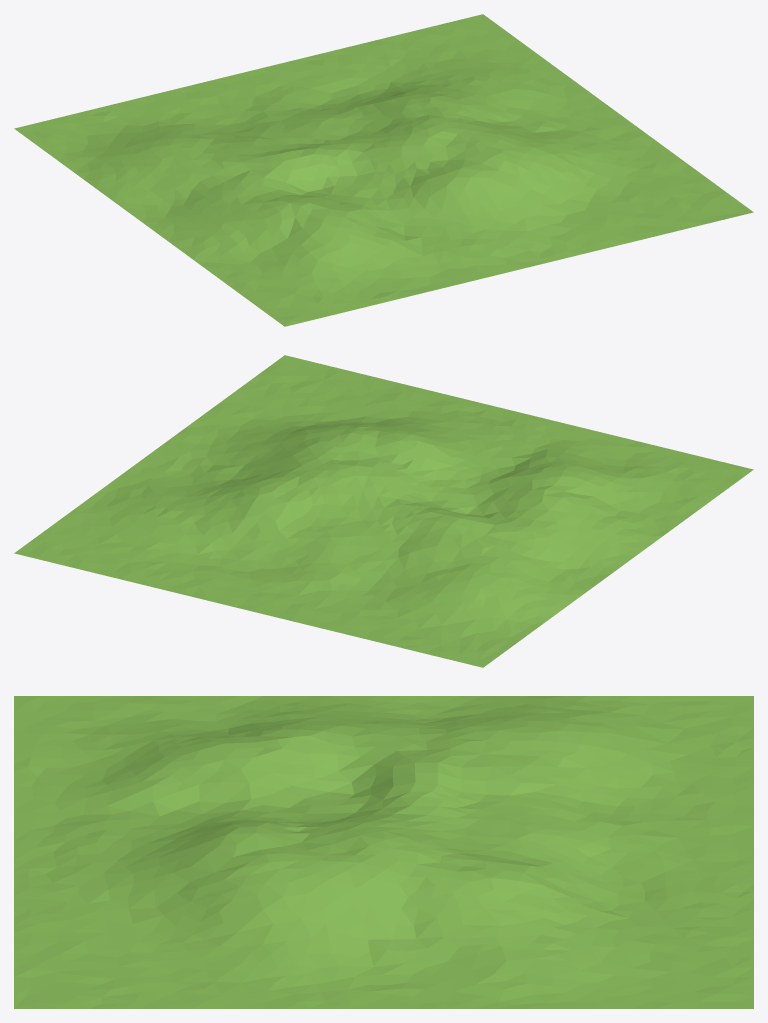
Rendered from MT_Terrain_L_a_23_LOD.fbx.
3 renders of one model, top to bottom at view 1: azimuth 30°, elevation 25°; view 2: azimuth 150°, elevation 25°; view 3: azimuth 270°, elevation 25°, orthographic. The views are drawn at different scales.
Visible parts, largest first — view 1: MT_Terrain_L_a_23_LOD0; view 2: MT_Terrain_L_a_23_LOD0; view 3: MT_Terrain_L_a_23_LOD0.
Part boxes in pixels (x1,y1,x2,y2): MT_Terrain_L_a_23_LOD0: [14, 14, 753, 326]; MT_Terrain_L_a_23_LOD0: [14, 355, 753, 667]; MT_Terrain_L_a_23_LOD0: [14, 696, 753, 1008].
Size of what is drawn, in the model's own units: 10000 by 675 by 10000.
